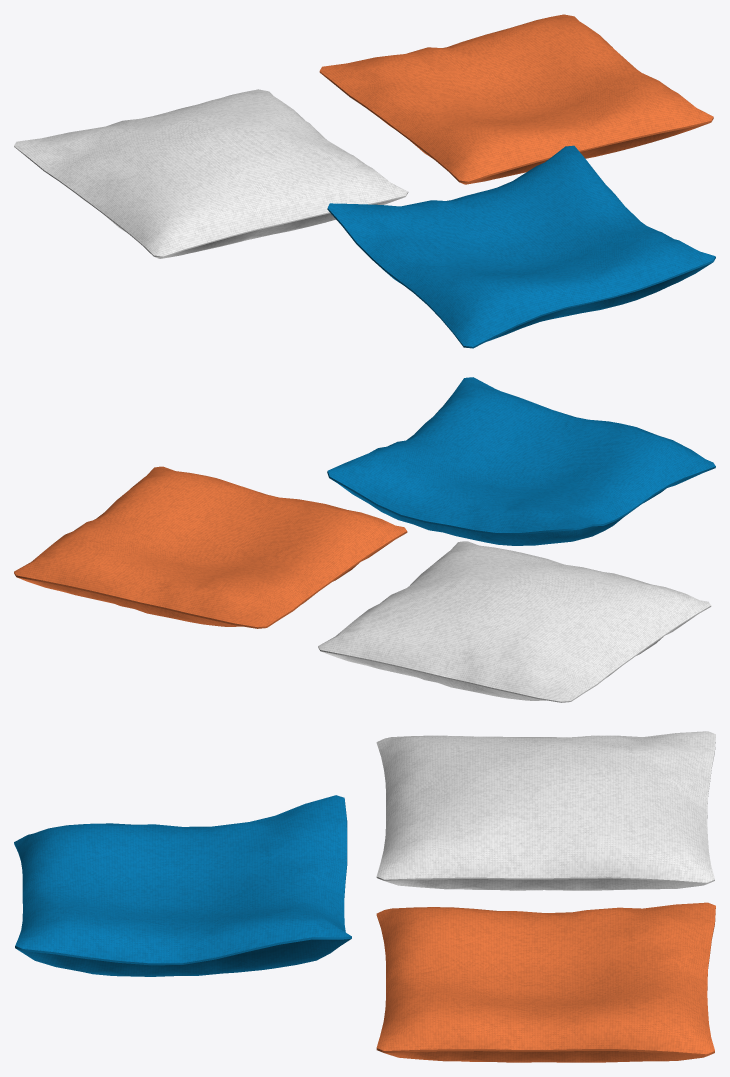
Rendered from Pillow.fbx.
3 renders of one model, top to bottom at view 1: azimuth 30°, elevation 25°; view 2: azimuth 150°, elevation 25°; view 3: azimuth 270°, elevation 25°, orthographic. The views are drawn at different scales.
Visible parts, largest first — view 1: Pillow3, Pillow1, Pillow2; view 2: Pillow1, Pillow3, Pillow2; view 3: Pillow1, Pillow2, Pillow3.
Part boxes in pixels (bbox=[...]): Pillow3: bbox=[327, 145, 715, 348]; Pillow1: bbox=[14, 89, 408, 258]; Pillow2: bbox=[319, 14, 713, 184]; Pillow1: bbox=[318, 541, 711, 702]; Pillow3: bbox=[327, 377, 715, 545]; Pillow2: bbox=[14, 466, 407, 628]; Pillow1: bbox=[376, 731, 715, 890]; Pillow2: bbox=[376, 902, 715, 1062]; Pillow3: bbox=[14, 795, 351, 976].
Size of the model in its own units: 0.9324 by 0.1154 by 0.8769.
